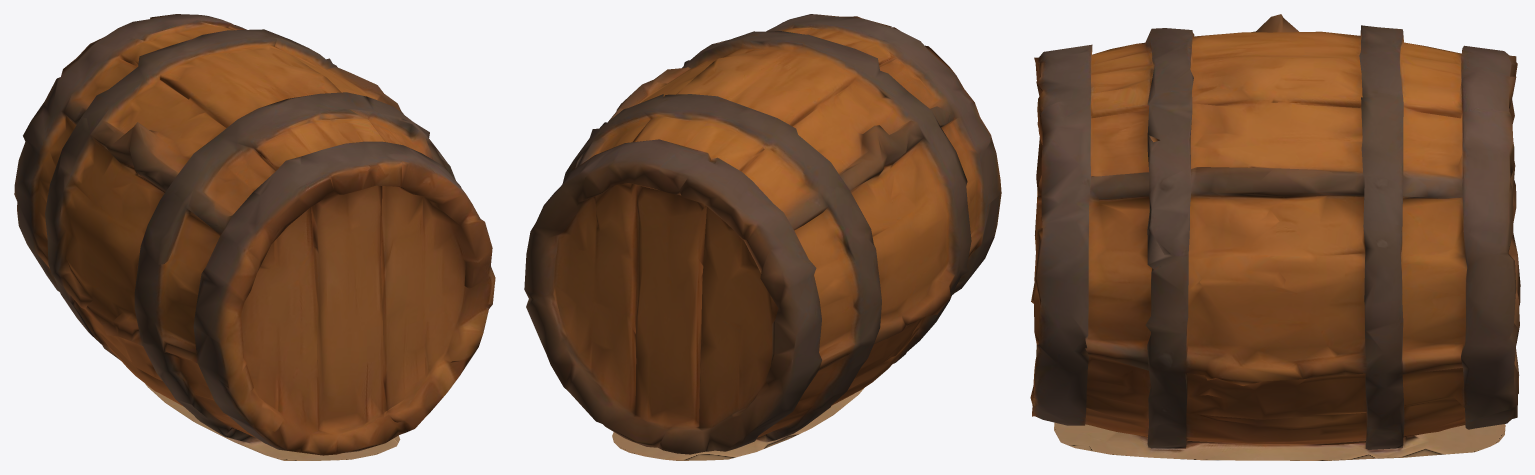
The model's file is barrel.glb.
The picture shows the model from 3 angles, left to right: view 1: azimuth 30°, elevation 25°; view 2: azimuth 150°, elevation 25°; view 3: azimuth 270°, elevation 25°; orthographic projection. The views are drawn at different scales.
Visible parts, largest first — view 1: tripo_node_cf791081-fc11-4731-b3a4-e4ef0f0e325f; view 2: tripo_node_cf791081-fc11-4731-b3a4-e4ef0f0e325f; view 3: tripo_node_cf791081-fc11-4731-b3a4-e4ef0f0e325f.
Boxes of the visible parts, <box> form: tripo_node_cf791081-fc11-4731-b3a4-e4ef0f0e325f: <box>14,14,495,460</box>; tripo_node_cf791081-fc11-4731-b3a4-e4ef0f0e325f: <box>524,14,1001,460</box>; tripo_node_cf791081-fc11-4731-b3a4-e4ef0f0e325f: <box>1030,14,1520,460</box>.
Bounding box in the file's own units: 0.8799 × 0.8481 × 1.
Materials: 1 (1 with a texture image).
